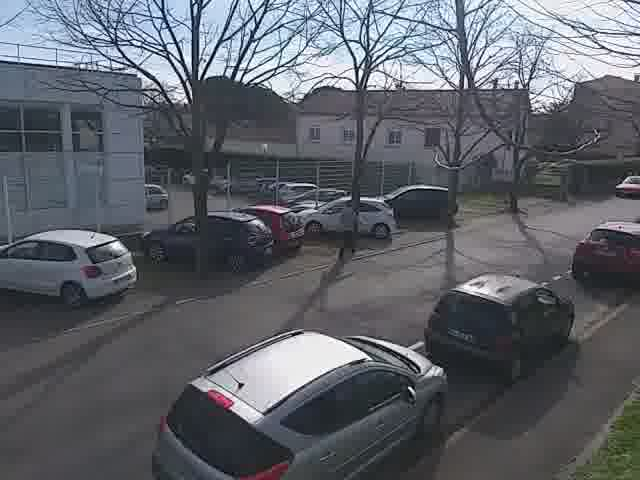persona: (333, 186, 363, 264)
